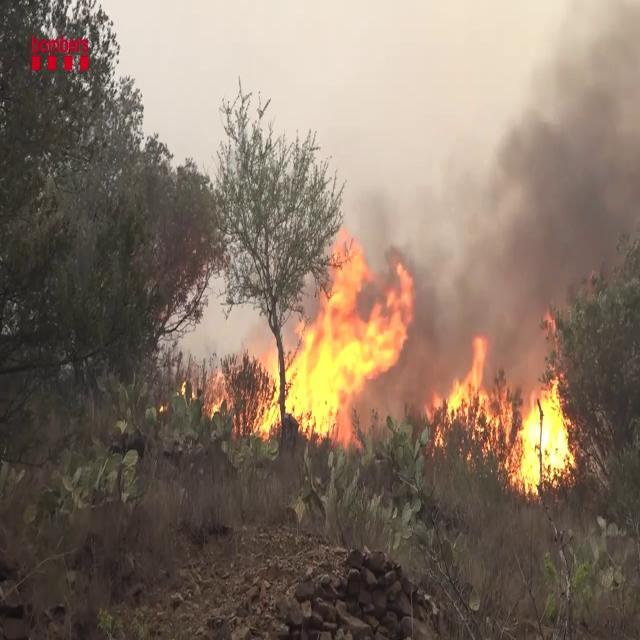Fire: (250, 230, 415, 446), (432, 335, 508, 453), (509, 372, 581, 495)
Smoke: (336, 0, 640, 331)
